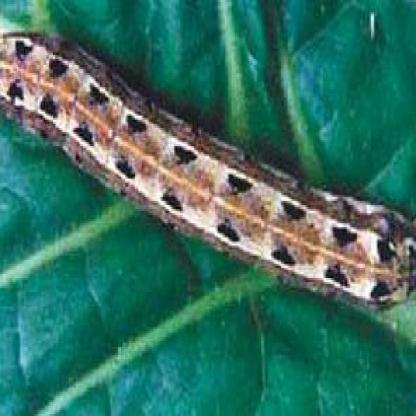armyworm: (0, 23, 416, 322)
